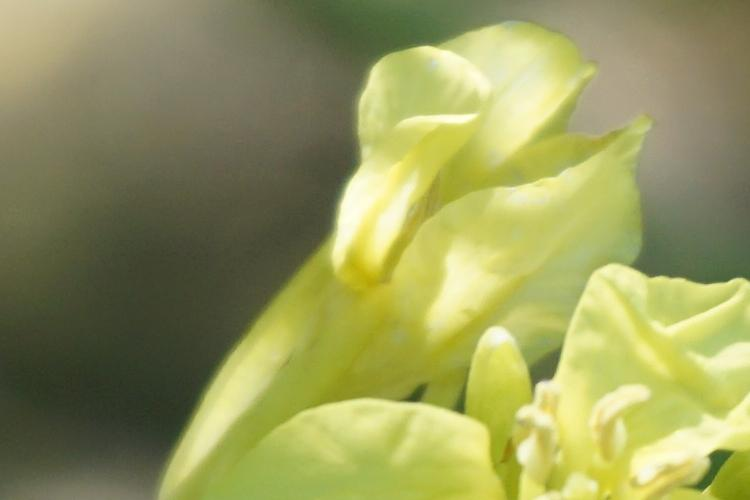bud: (469, 326, 542, 464)
yellow: (115, 28, 646, 465), (215, 265, 750, 500)
